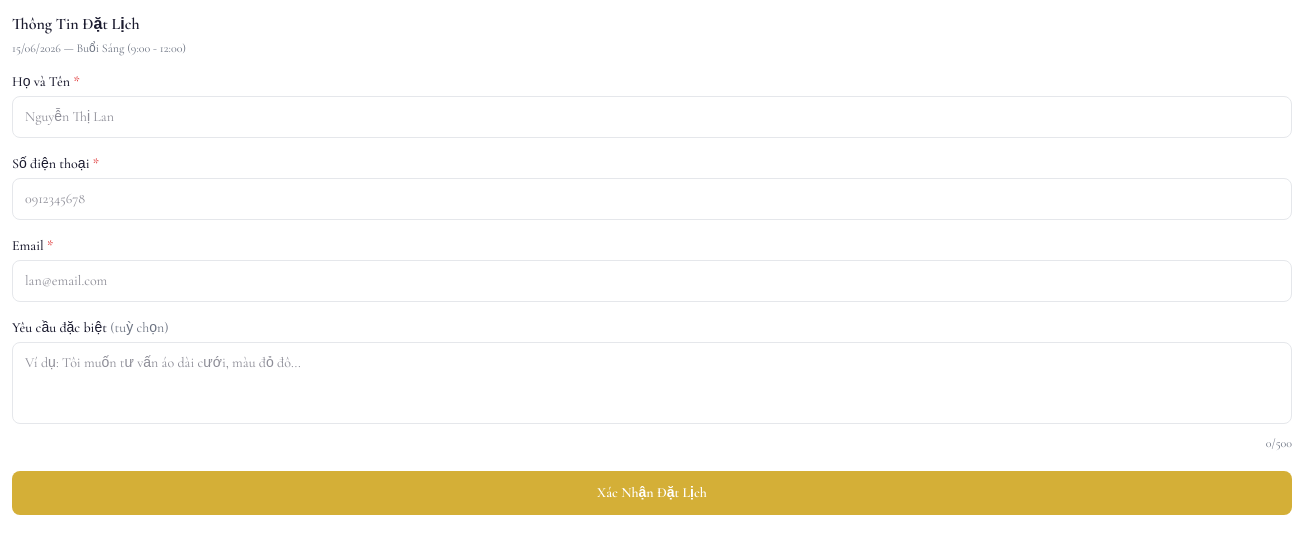
BookingForm › validates email format on blur
This screenshot has width=1304, height=552.
Type "not-an-email" into the field labelled "Email *" at (652, 281), box [12, 260, 1292, 302]
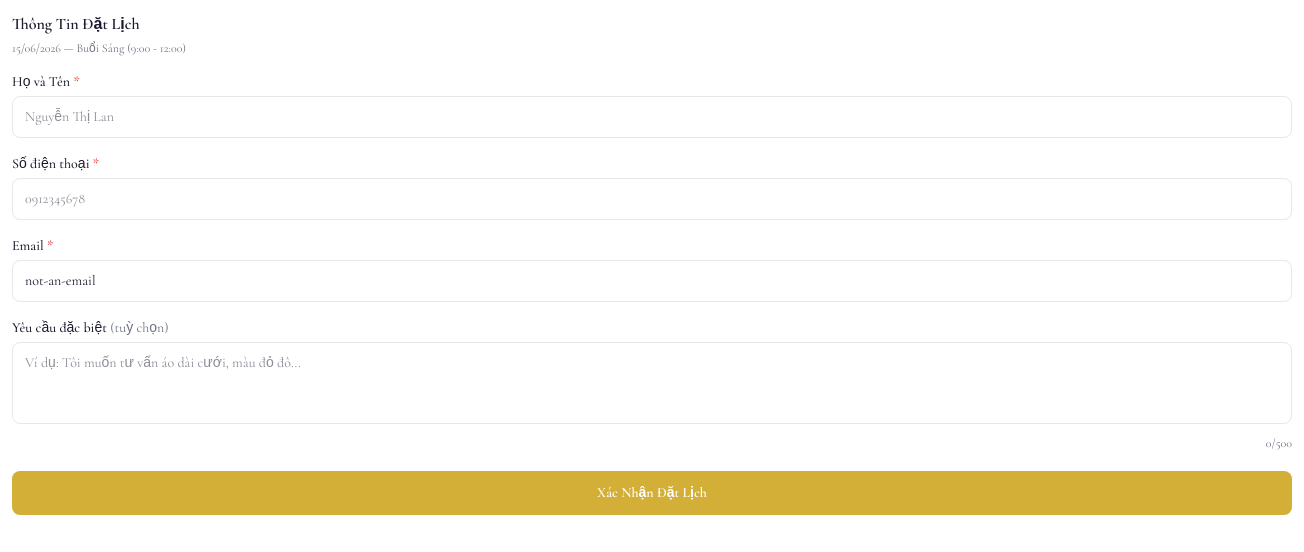
Leave the field labelled "Email *", box [12, 260, 1292, 302]
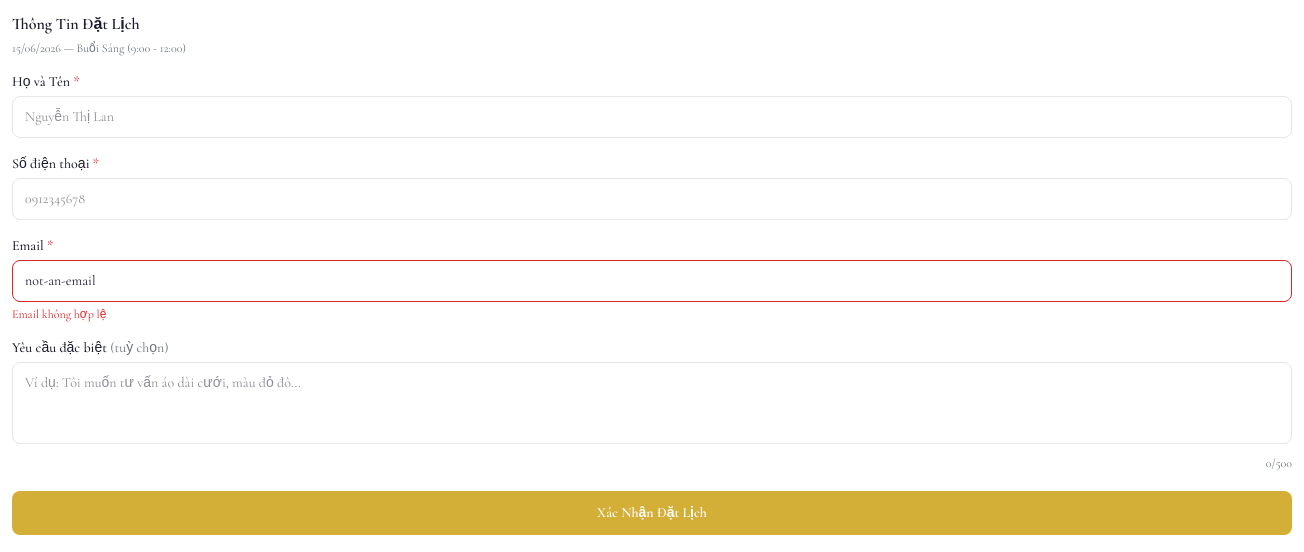
expect the text "Email không hợp lệ" is shown: met, box [12, 307, 106, 321]
